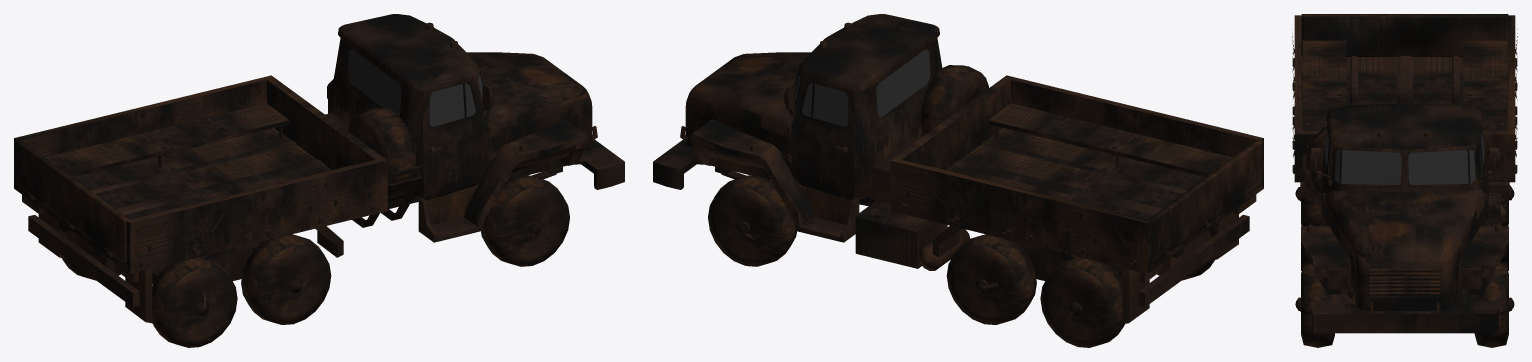
File: ural_burnt.glb
3 renders of one model, left to right at view 1: azimuth 30°, elevation 25°; view 2: azimuth 150°, elevation 25°; view 3: azimuth 270°, elevation 25°, orthographic. The views are drawn at different scales.
Visible parts, largest first — view 1: ural; view 2: ural; view 3: ural.
Part boxes in pixels (x1,y1,x2,y2): ural: (14,14,624,347); ural: (653,14,1263,347); ural: (1292,14,1517,347).
Bounding box in the file's own units: 7.37 × 2.84 × 2.98.
Materials: 2 (1 with a texture image).
